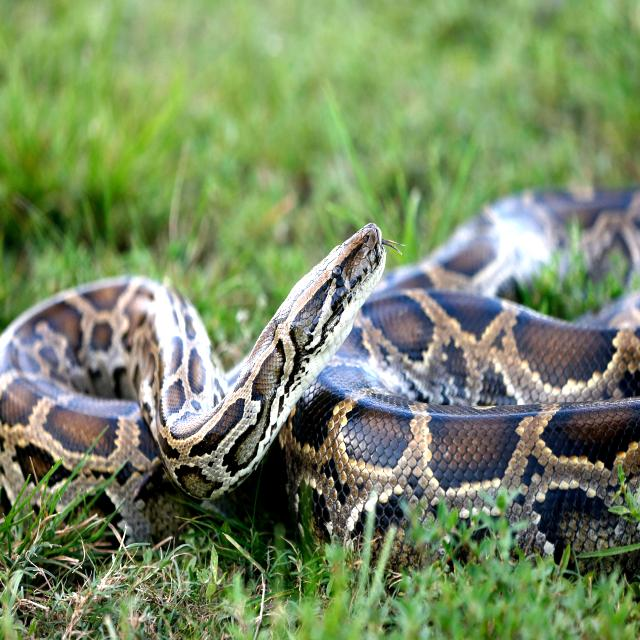Python bivittatus: (0, 192, 639, 565)
snake: (0, 192, 639, 565)
